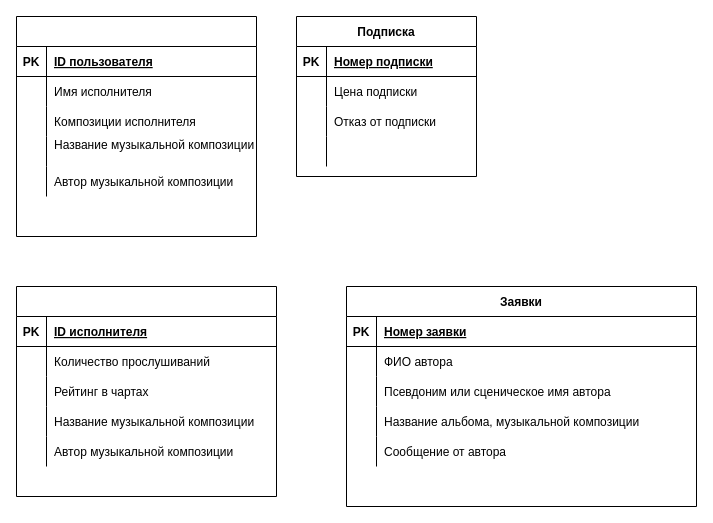
Image size: 713x523. Some labels were removed from this diagram. The shapes that lost their labels are listed below. From the top down, each one's box as (x1, y1, x2, y2) in pixels, then its label:
(16, 16, 256, 236): Избранное
(16, 286, 276, 496): Тип данных
